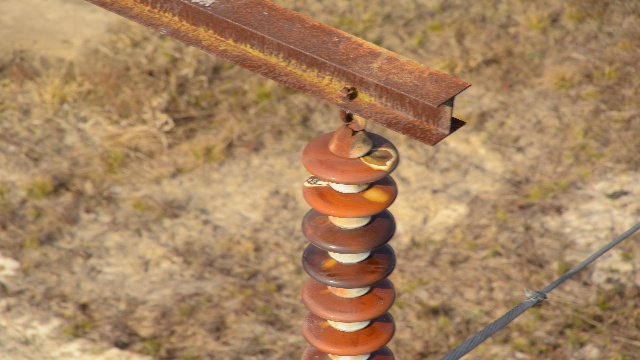insulator_unspecified: (298, 129, 401, 359)
pollution_flashover_local: (361, 143, 397, 170), (360, 185, 391, 206), (319, 255, 337, 270), (313, 211, 328, 228), (318, 320, 333, 331)
